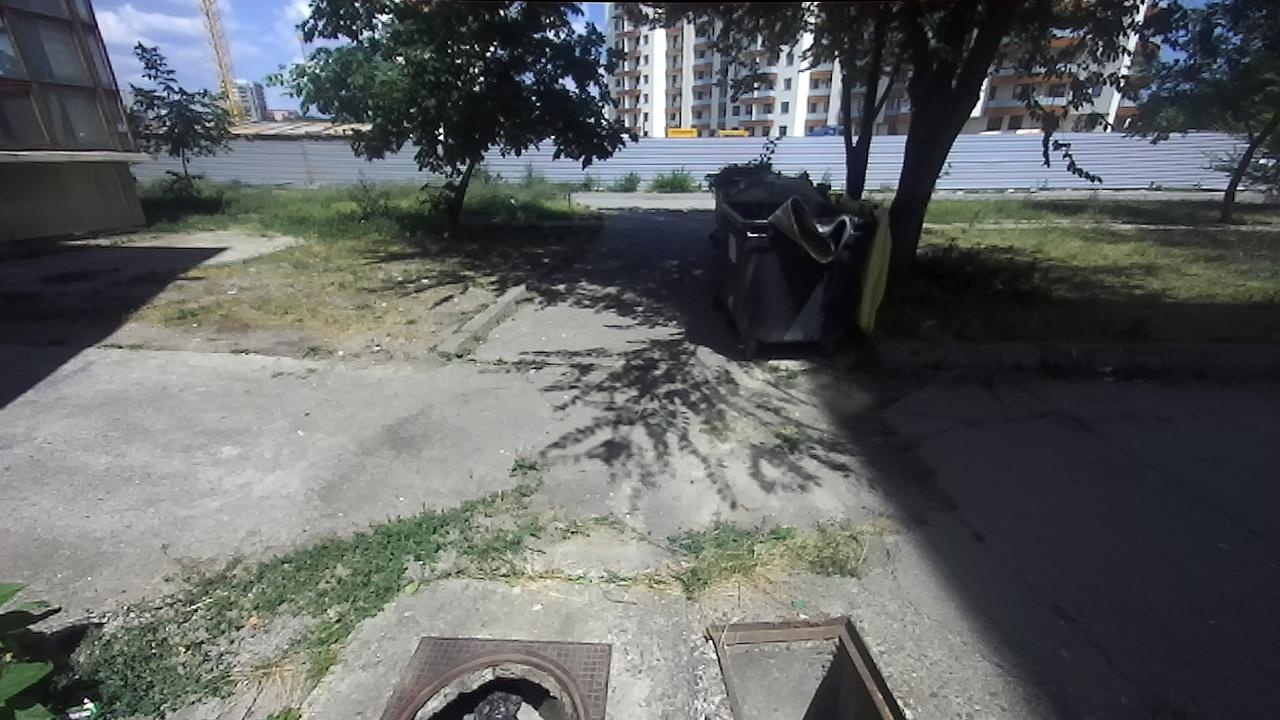drain: (704, 611, 903, 718), (387, 652, 595, 720)
